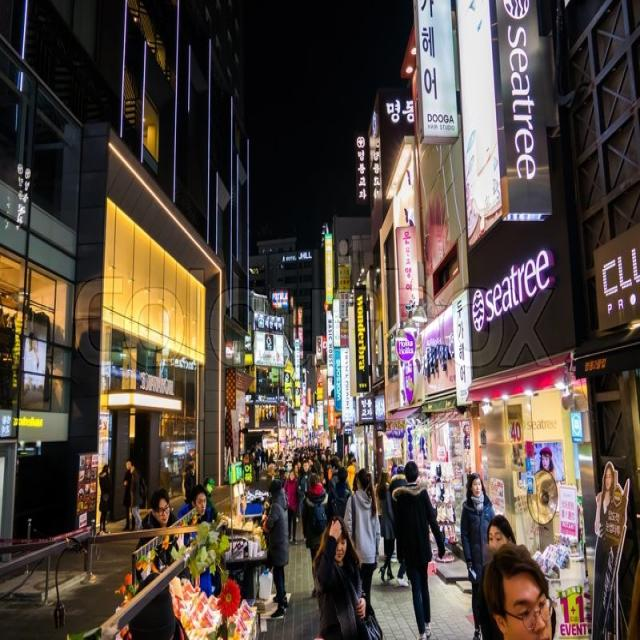body: (390, 458, 448, 638), (308, 513, 387, 639), (478, 540, 558, 640), (456, 468, 502, 639), (173, 481, 226, 598), (469, 512, 517, 640), (590, 458, 624, 638), (343, 467, 382, 605), (260, 476, 291, 623), (134, 486, 179, 584), (128, 570, 191, 640), (298, 470, 330, 600), (256, 437, 340, 471), (388, 464, 410, 590), (376, 467, 395, 584), (281, 467, 299, 546), (24, 327, 45, 389), (130, 458, 147, 530), (121, 456, 136, 533), (325, 454, 351, 495), (98, 464, 112, 536), (296, 458, 312, 518), (332, 465, 353, 498), (182, 460, 197, 503), (183, 463, 195, 508), (535, 446, 554, 474), (344, 458, 357, 492), (461, 422, 473, 452), (390, 456, 399, 478)
